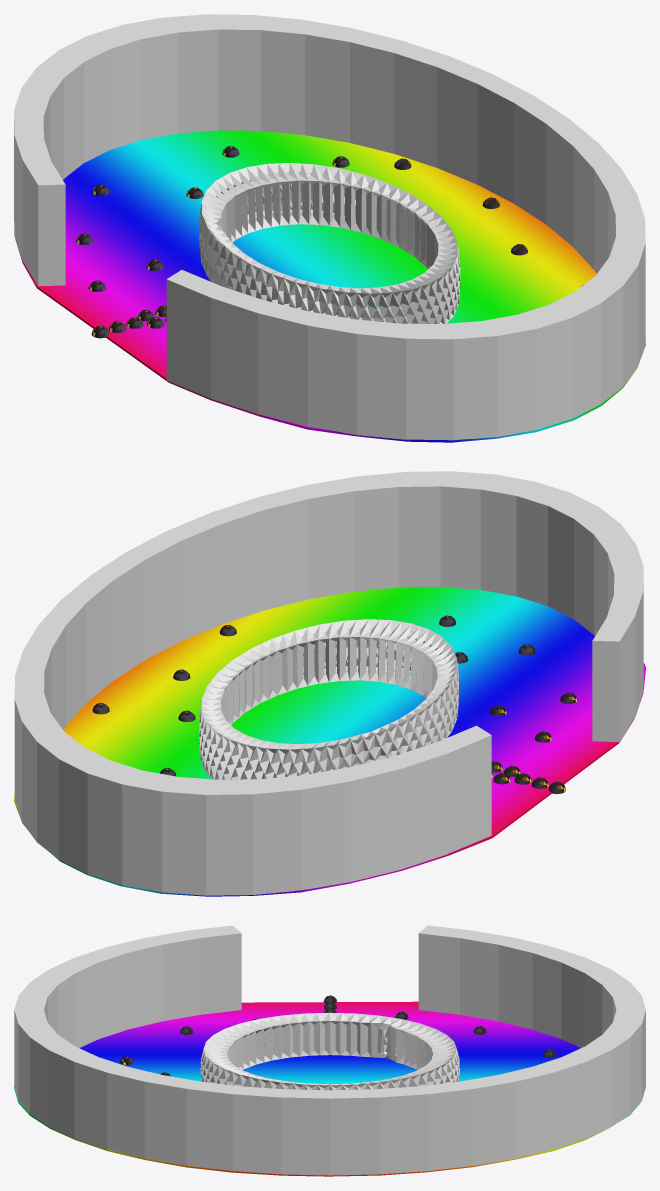
File: race_track (12).fbx
3 views of the same model, one above another, from view 1: azimuth 30°, elevation 25°; view 2: azimuth 150°, elevation 25°; view 3: azimuth 270°, elevation 25° (orthographic). The views are drawn at different scales.
Visible parts, largest first — view 1: Cylinder, Circle.002, Circle.001; view 2: Cylinder, Circle.002, Circle.001; view 3: Cylinder, Circle.002, Circle.001.
Boxes of the visible parts, box(x1,y1,x2,y2) form: Cylinder: box(14, 14, 645, 440); Circle.002: box(15, 130, 645, 442); Circle.001: box(199, 163, 460, 323); Cylinder: box(14, 471, 643, 895); Circle.002: box(14, 587, 645, 896); Circle.001: box(199, 619, 458, 779); Cylinder: box(14, 925, 645, 1175); Circle.002: box(14, 1001, 640, 1176); Circle.001: box(200, 1012, 459, 1090).
Bounding box in the file's own units: 970 × 200 × 1466.
3 materials, 2 textured.
